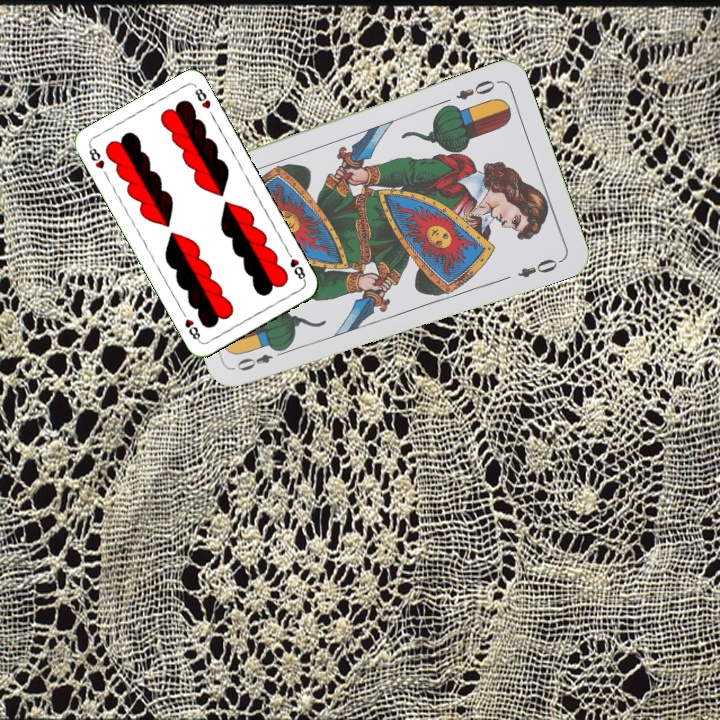EO: (232, 344, 290, 374), (451, 76, 498, 103)
H8: (283, 247, 308, 284), (85, 142, 107, 172)
